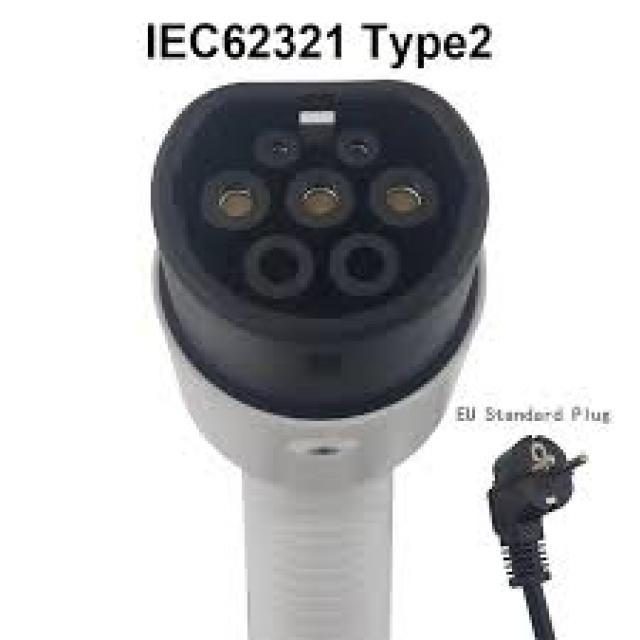Type 2: (138, 67, 520, 345)
